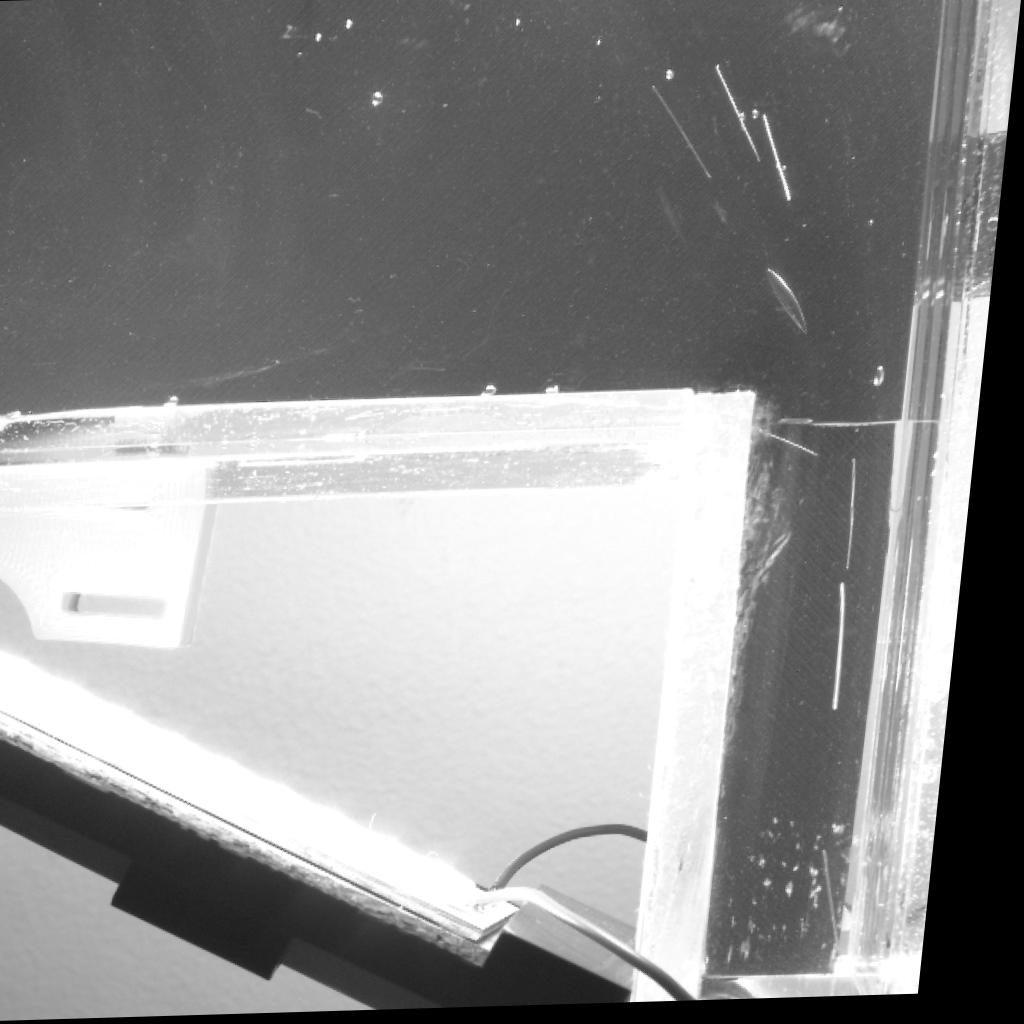Fiber: (650, 87, 719, 181), (715, 69, 767, 166), (842, 848, 866, 985), (763, 120, 798, 205), (763, 422, 832, 464), (849, 587, 860, 719), (859, 461, 869, 580)
